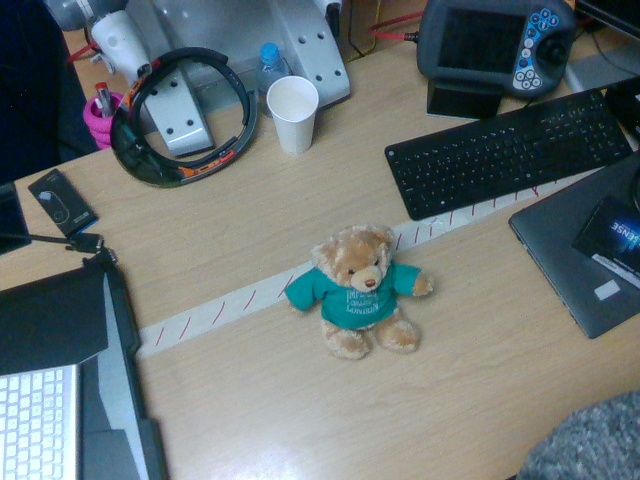teddy: (283, 224, 434, 359)
